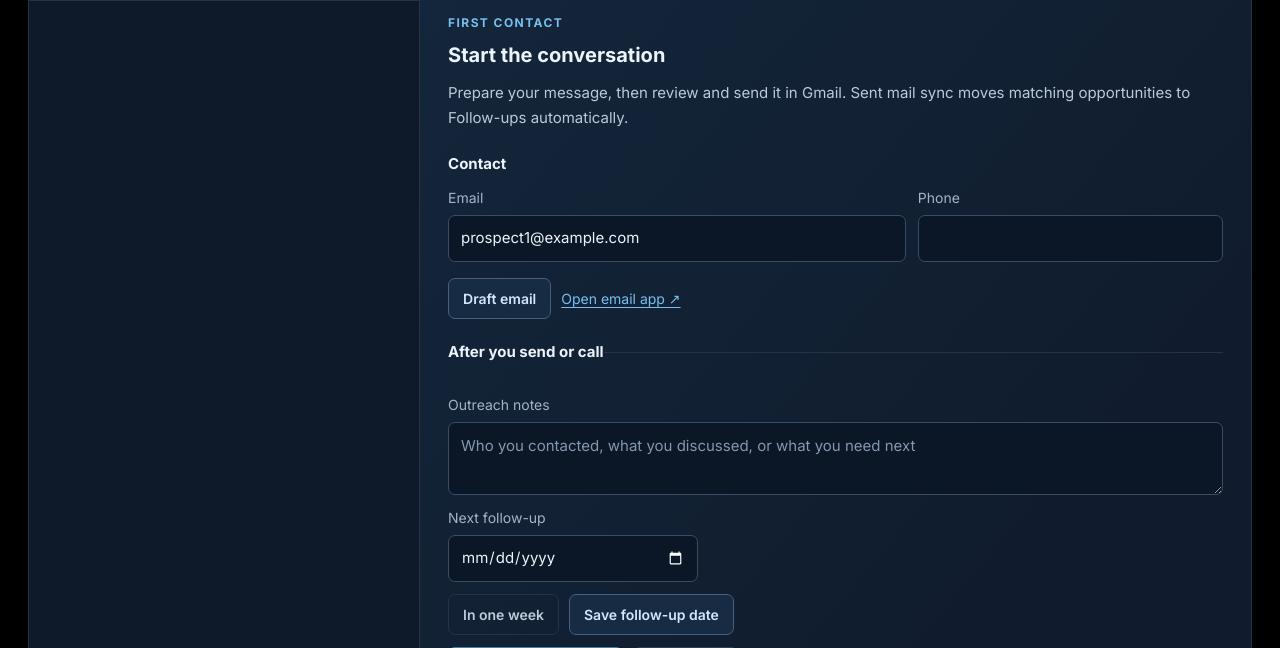
Test: admin lead email drafting › does not report success when a successful response is missing its draft ID
(page scrolled)
What coordinates should you click on to do the following:
click the button "Draft email"
I would click on:
 (500, 299)
Its box is [448,278,551,319].
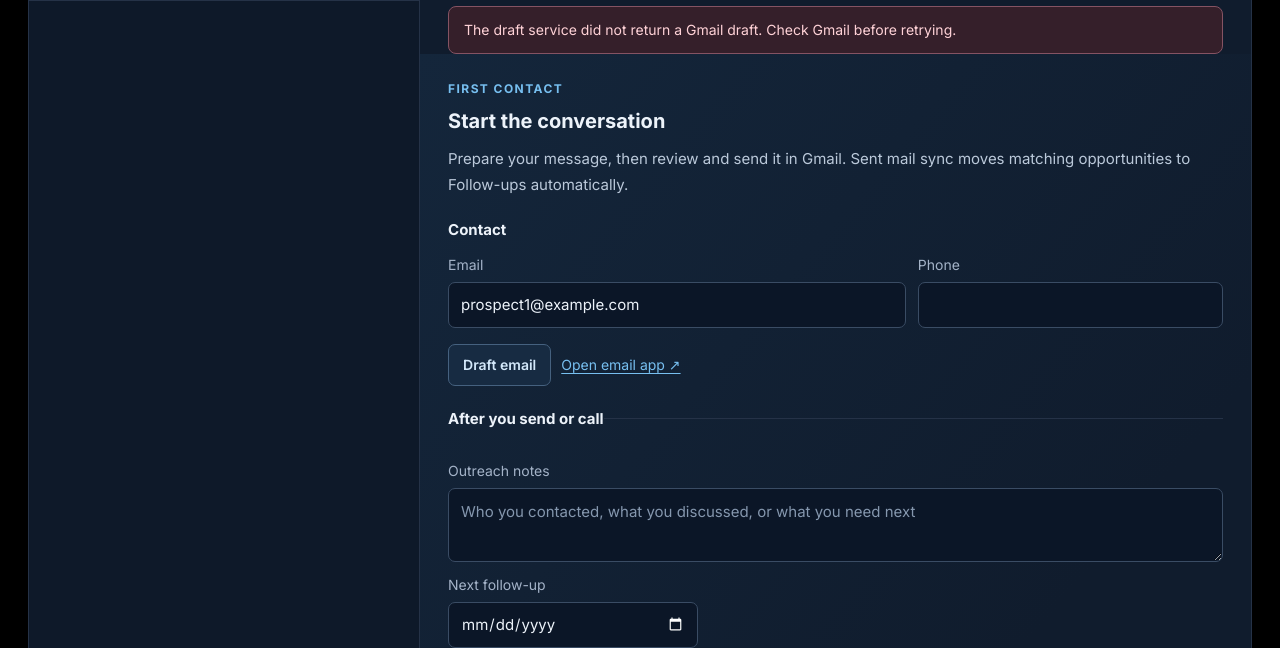
Now the message shows "The draft service did not return a Gmail draft.", box [464,21,956,38]
